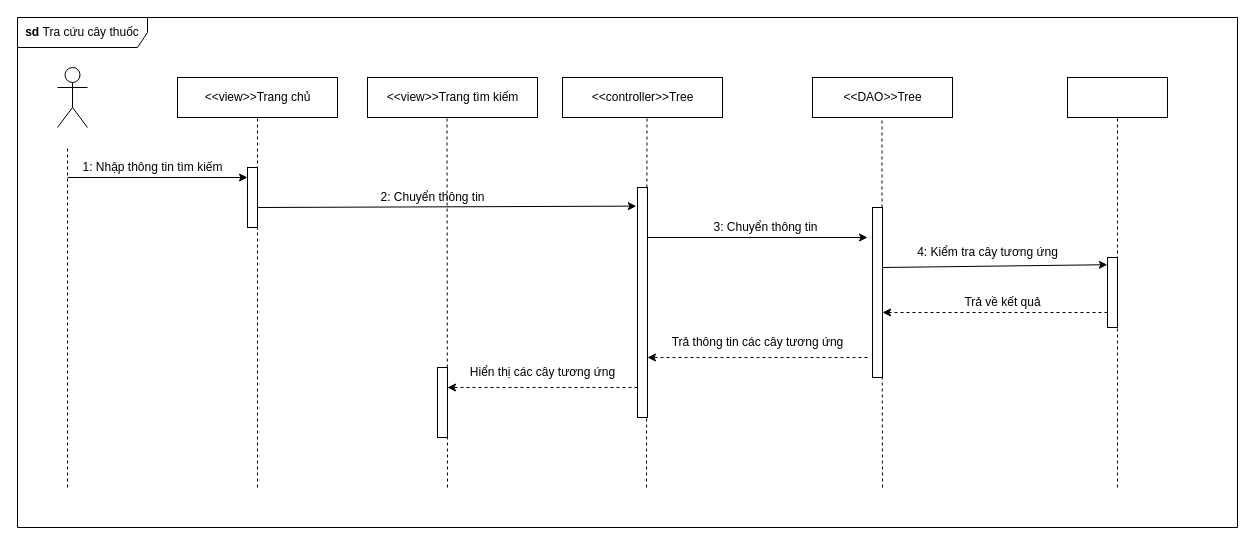
This 1255x545 diagram has some shape labels left out. The centre of each missing label's shape, as x and y in pixels:
"Database" goes at (x=1117, y=97).
"Người dùng" goes at (x=72, y=97).
